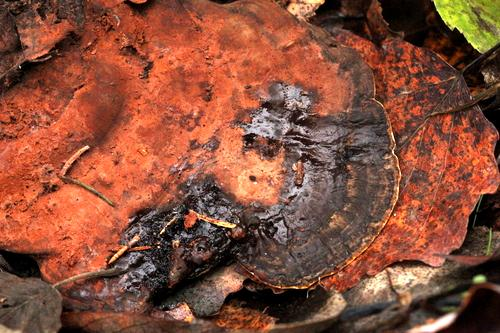Ganoderma - Fruit Body: (153, 13, 408, 313)
